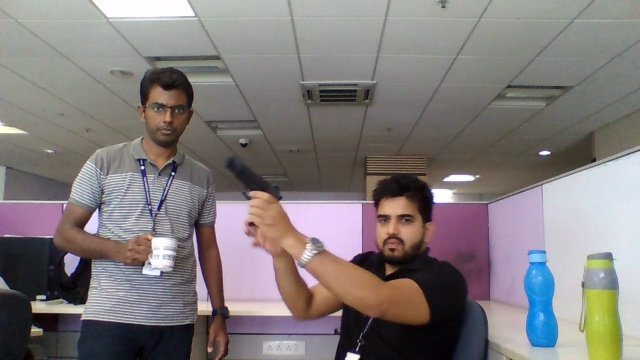gun: (222, 153, 287, 198)
